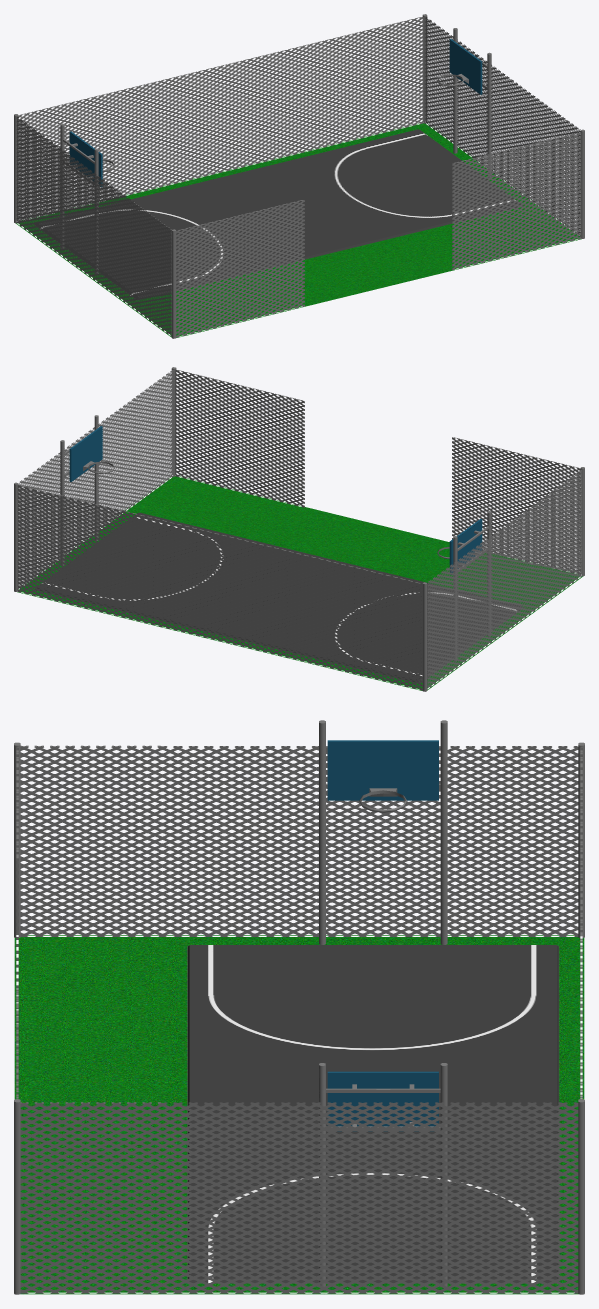
File: Basketball Court.fbx
3 renders of one model, top to bottom at view 1: azimuth 30°, elevation 25°; view 2: azimuth 150°, elevation 25°; view 3: azimuth 270°, elevation 25°, orthographic. The views are drawn at different scales.
Parts seen in each view (by area): view 1: Basketball Court; view 2: Basketball Court; view 3: Basketball Court.
Boxes of the visible parts, x1,y1,x2,y2 form: Basketball Court: [14, 14, 584, 338]; Basketball Court: [14, 367, 584, 691]; Basketball Court: [14, 720, 584, 1294].
Bounding box in the file's own units: 2216 × 637 × 1487.
1 material, 1 textured.
